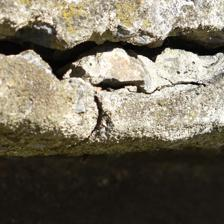Crack: (6, 0, 58, 158), (5, 73, 109, 149), (101, 44, 151, 75)
